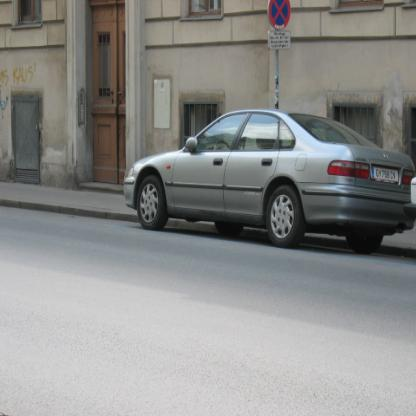car: (119, 108, 416, 250)
